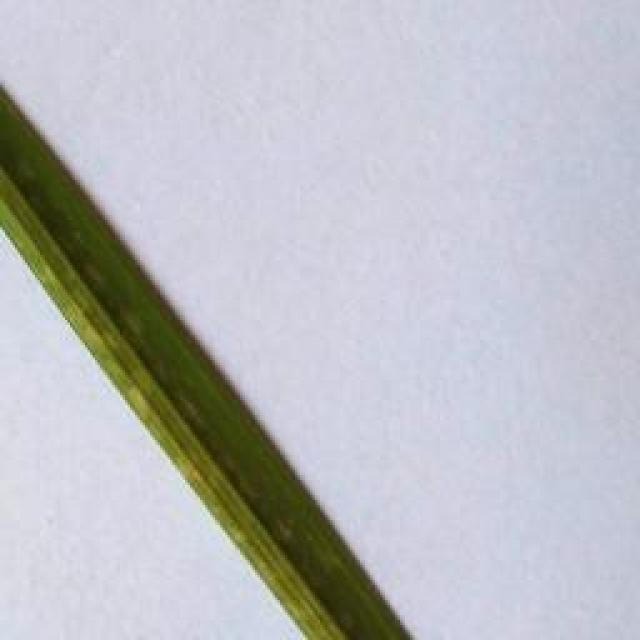Healthy-Plant: (0, 91, 411, 638)
